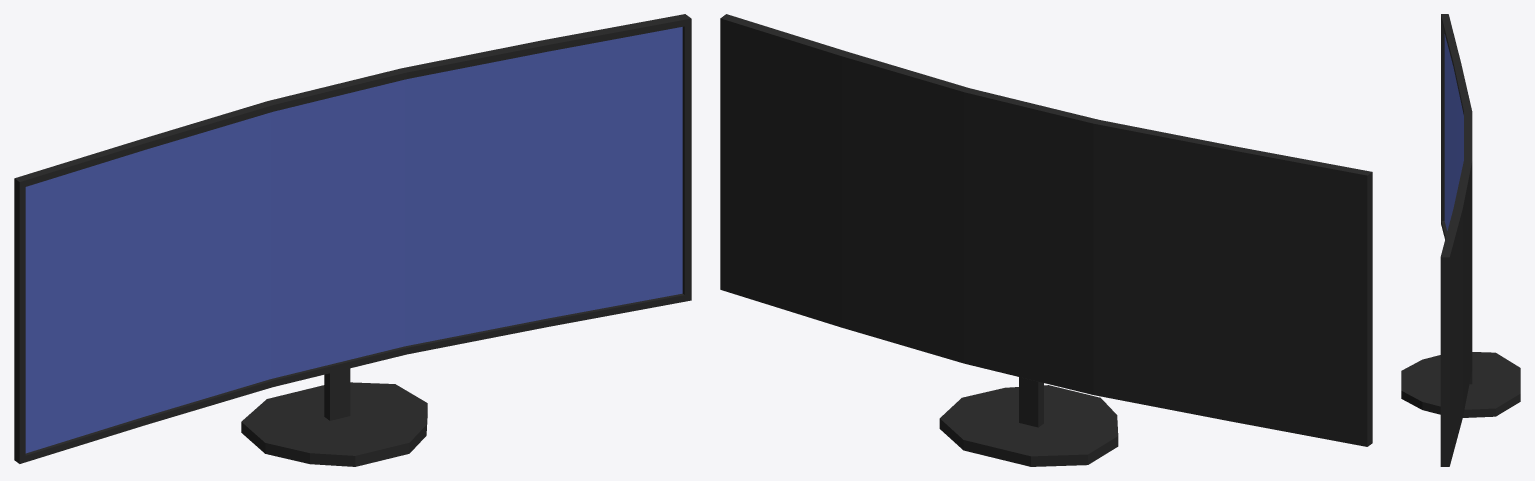
The model's file is Screen_7.fbx.
3 renders of one model, left to right at view 1: azimuth 30°, elevation 25°; view 2: azimuth 150°, elevation 25°; view 3: azimuth 270°, elevation 25°, orthographic. The views are drawn at different scales.
Parts seen in each view (by area): view 1: Screen_7; view 2: Screen_7; view 3: Screen_7.
Boxes of the visible parts, x1,y1,x2,y2 form: Screen_7: [14, 14, 691, 466]; Screen_7: [720, 14, 1372, 466]; Screen_7: [1401, 14, 1520, 466].
Bounding box in the file's own units: 1.22 × 0.5906 × 0.2528.
